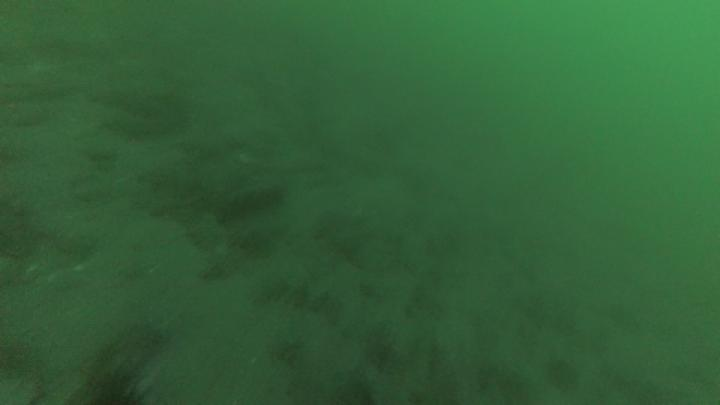holothurian: (216, 181, 281, 220)
